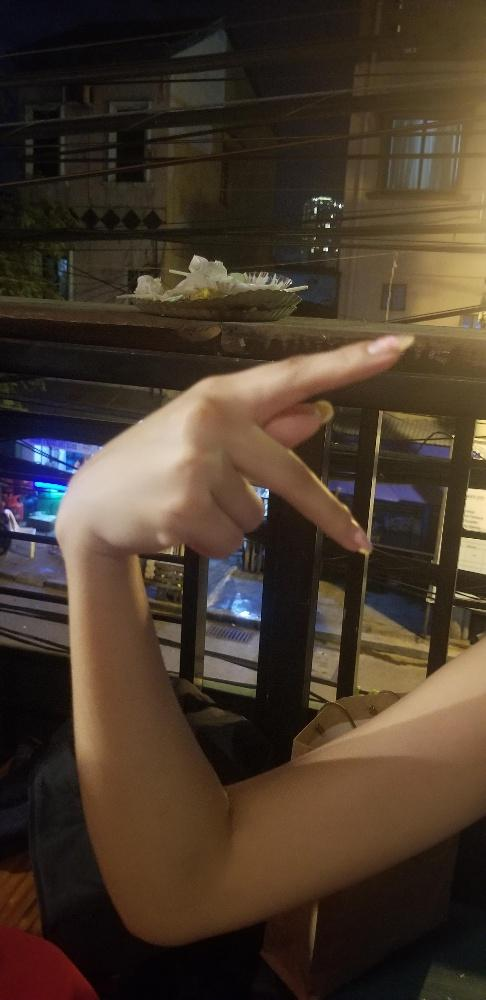k: (46, 329, 418, 562)
